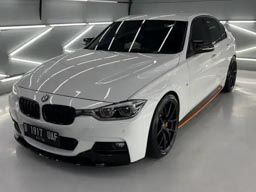plat: (23, 121, 61, 148)
